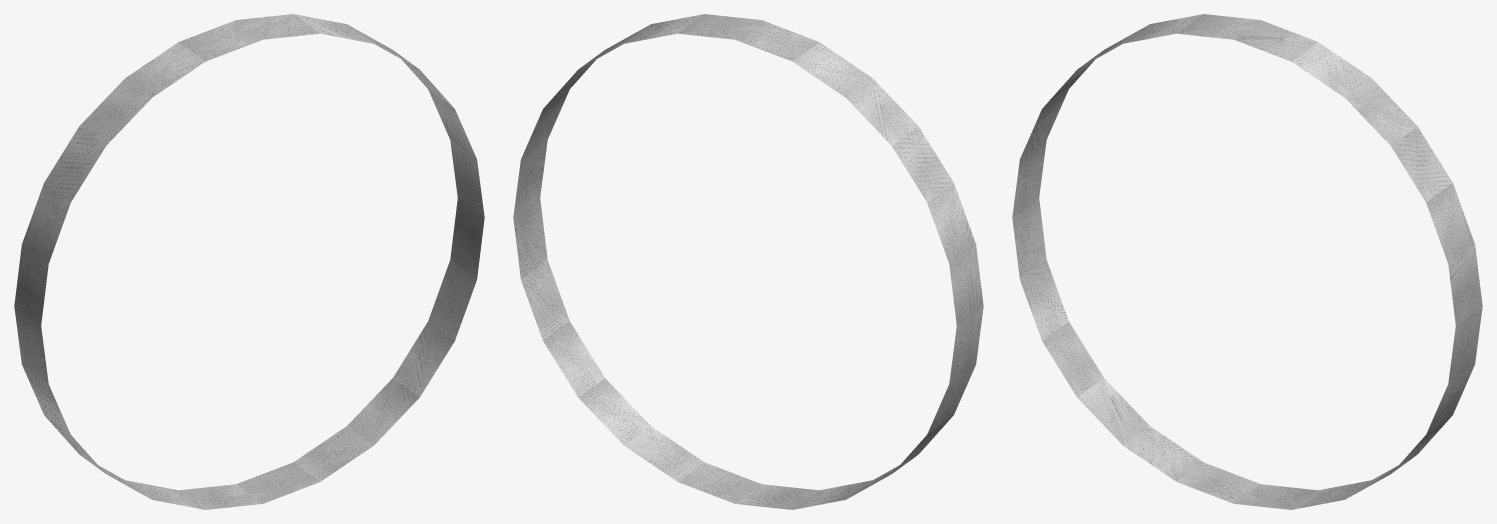
Rendered from original-15.obj.
3 views of the same model, side by side, from view 1: azimuth 30°, elevation 25°; view 2: azimuth 150°, elevation 25°; view 3: azimuth 330°, elevation 25° (orthographic).
Parts seen in each view (by area): view 1: #ID158; view 2: #ID158; view 3: #ID158.
Part boxes in pixels (x1,y1,x2,y2): #ID158: (14,14,484,509); #ID158: (513,14,983,509); #ID158: (1012,14,1482,509).
Bounding box in the file's own units: 0.0235 × 0.0235 × 0.00247.
Materials: 2 (1 with a texture image).
